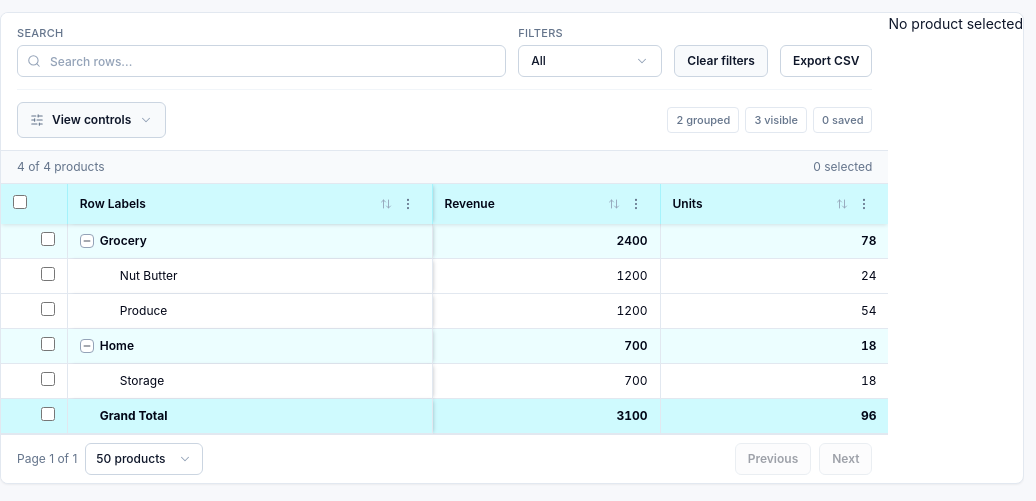
Test: DataGrid pivot layout mode › maps pivot group selection to source rows by default
The width and height of the screenshot is (1036, 501).
Step 1. Click the checkbox named "Select source rows for Grocery" → (48, 239), box [41,232,55,246]
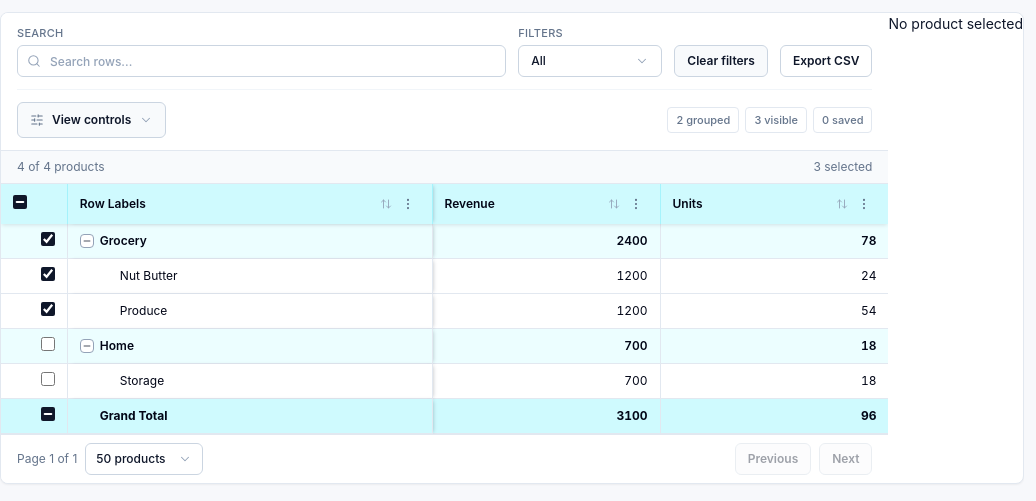
Expected: the text "3 selected" is shown, [813,159,872,175]
Expected: the checkbox named "Select source rows for Nut Butter" is checked, [41,267,55,281]
Expected: the checkbox named "Select source rows for Produce" is checked, [41,302,55,316]
Step 2. Click the checkbox named "Select all filtered source rows" → (20, 202), box [13,195,27,209]
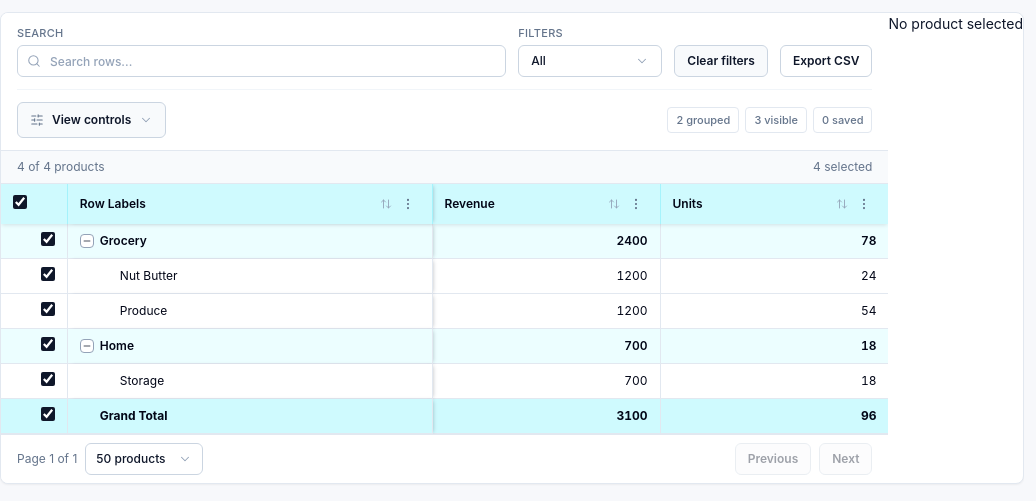
Expected: the text "4 selected" is shown, [813,159,872,175]
